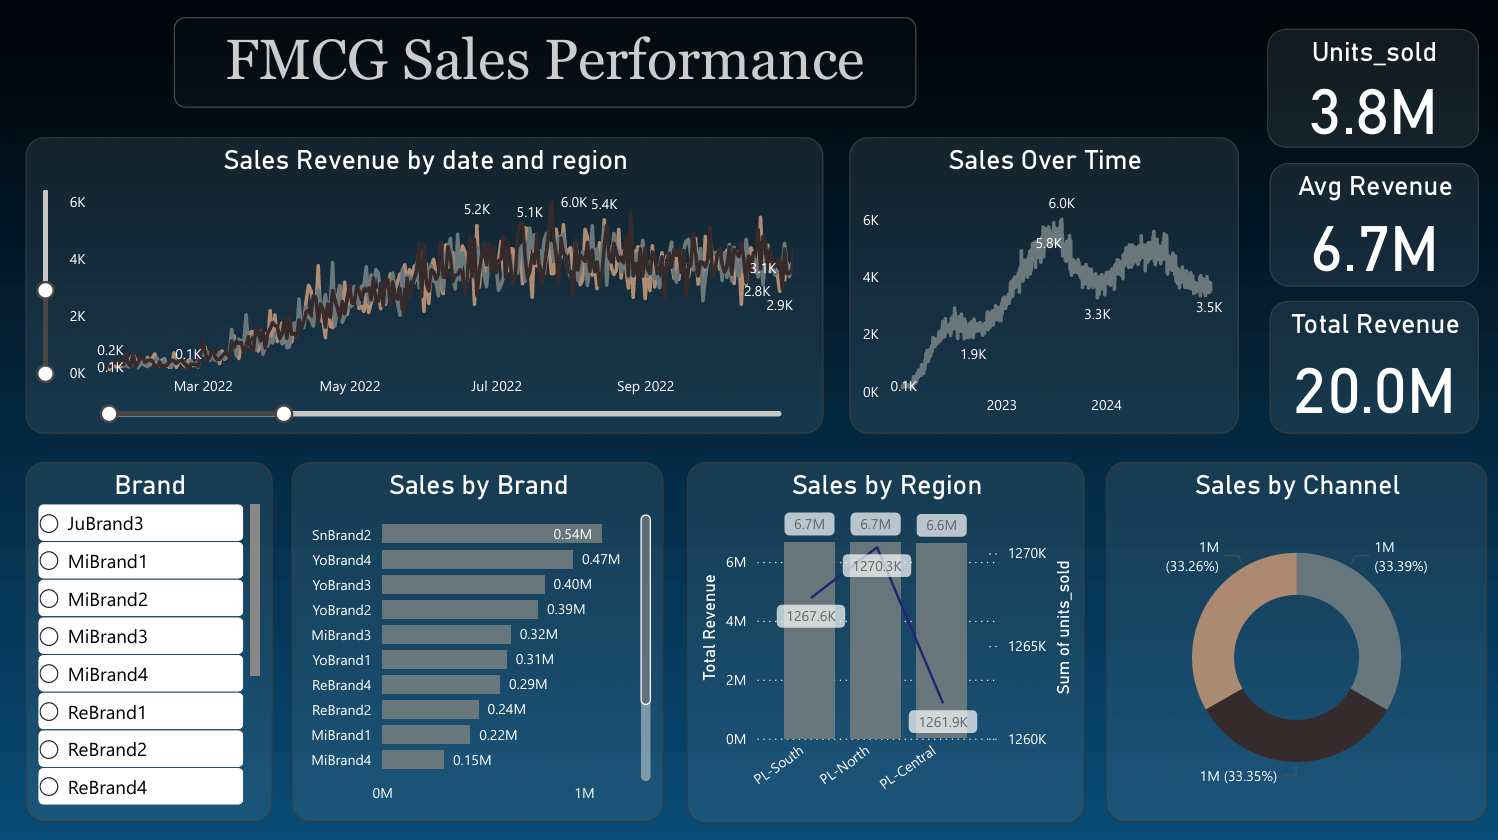

What the dashboard file says about the page in this screenshot:
{"tool":"powerbi","page":{"name":"Page 1","canvas":[1280,720],"ordinal":0},"visuals":[{"type":"lineChart","title":"Sales Over Time","fields":{"Category":["FMCG_2022_2024.date.Variation.Date Hierarchy.Year"],"Y":["Sum(FMCG_2022_2024.units_sold)"]},"box":[724.1,117.5,331,252.6],"z":0},{"type":"barChart","title":"Sales by Brand","fields":{"Category":["FMCG_2022_2024.brand"],"Y":["Sum(FMCG_2022_2024.units_sold)"]},"box":[249.9,394.4,316.1,305.3],"z":1000},{"type":"lineClusteredColumnComboChart","title":"Sales by Region","fields":{"Category":["FMCG_2022_2024.region"],"Y":["FMCG_2022_2024.Total Revenue"],"Y2":["Sum(FMCG_2022_2024.units_sold)"]},"box":[586.3,394.4,337.7,306.6],"z":2000},{"type":"donutChart","title":"Sales by Channel","fields":{"Category":["FMCG_2022_2024.channel"],"Y":["Sum(FMCG_2022_2024.units_sold)"]},"box":[941.5,394.4,324.2,305.3],"z":3000},{"type":"listSlicer","title":"Brand","fields":{"Values":["FMCG_2022_2024.brand"]},"box":[24.3,394.4,209.4,305.3],"z":4000},{"type":"card","title":"Units_sold","fields":{"Values":["Sum(FMCG_2022_2024.units_sold)"]},"box":[1079.3,25.7,179.7,101.3],"z":5000},{"type":"textbox","box":[149.9,16.2,630.8,77],"z":7000},{"type":"card","title":"Total Revenue","fields":{"Values":["FMCG_2022_2024.Total Revenue"]},"box":[1080.7,256.7,178.3,113.5],"z":8000},{"type":"card","title":"Avg Revenue","fields":{"Values":["FMCG_2022_2024.Average Revenue"]},"box":[1080.7,140.5,178.3,104],"z":9000},{"type":"lineChart","title":"Sales Revenue by date and region","fields":{"Category":["FMCG_2022_2024.date"],"Series":["FMCG_2022_2024.region"],"Y":["Sum(FMCG_2022_2024.Revenue)"]},"box":[24.3,117.5,678.1,252.6],"z":10000}]}

Visuals, with their boxes in screenshot pixels (x1, y1, x2, y2), scaled from the page's 1280x720 canvas onto the 1498x840 screenshot:
"Sales Over Time" lineChart: {"x1": 847, "y1": 137, "x2": 1235, "y2": 432}
"Sales by Brand" barChart: {"x1": 292, "y1": 460, "x2": 662, "y2": 816}
"Sales by Region" lineClusteredColumnComboChart: {"x1": 686, "y1": 460, "x2": 1081, "y2": 818}
"Sales by Channel" donutChart: {"x1": 1102, "y1": 460, "x2": 1481, "y2": 816}
"Brand" listSlicer: {"x1": 28, "y1": 460, "x2": 274, "y2": 816}
"Units_sold" card: {"x1": 1263, "y1": 30, "x2": 1473, "y2": 148}
textbox: {"x1": 175, "y1": 19, "x2": 914, "y2": 109}
"Total Revenue" card: {"x1": 1265, "y1": 299, "x2": 1473, "y2": 432}
"Avg Revenue" card: {"x1": 1265, "y1": 164, "x2": 1473, "y2": 285}
"Sales Revenue by date and region" lineChart: {"x1": 28, "y1": 137, "x2": 822, "y2": 432}
